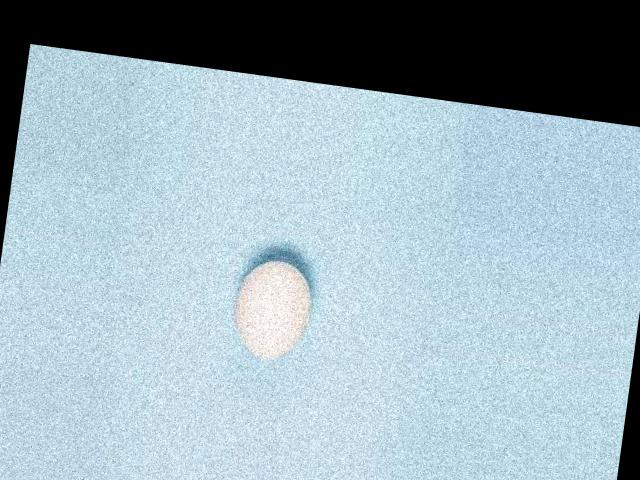egg: (228, 256, 316, 364)
